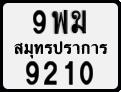letters: (51, 9, 68, 35), (70, 9, 87, 34), (78, 60, 94, 86), (24, 61, 40, 86), (43, 60, 58, 86), (31, 10, 47, 34), (64, 60, 74, 86)
province: (12, 40, 109, 60)
